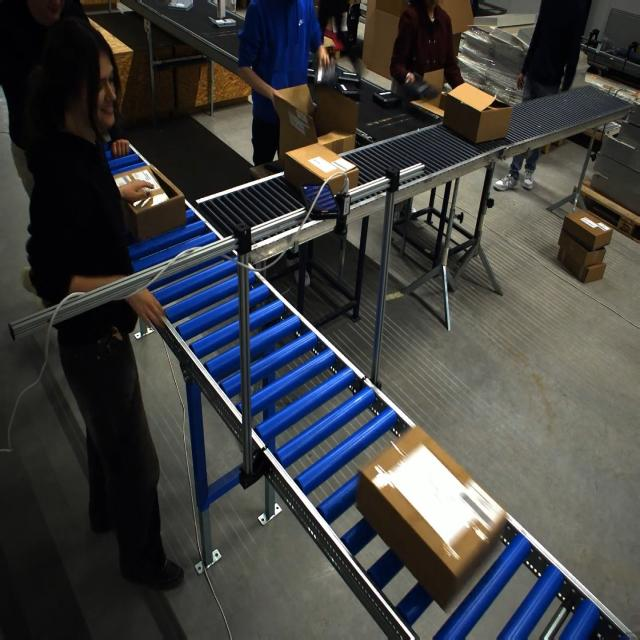box: (359, 436, 502, 612), (113, 163, 186, 244), (441, 82, 513, 144), (283, 142, 347, 196), (315, 129, 354, 155)
product: (372, 90, 398, 107), (336, 73, 359, 91), (207, 16, 236, 28), (166, 0, 194, 11), (338, 71, 357, 79)
